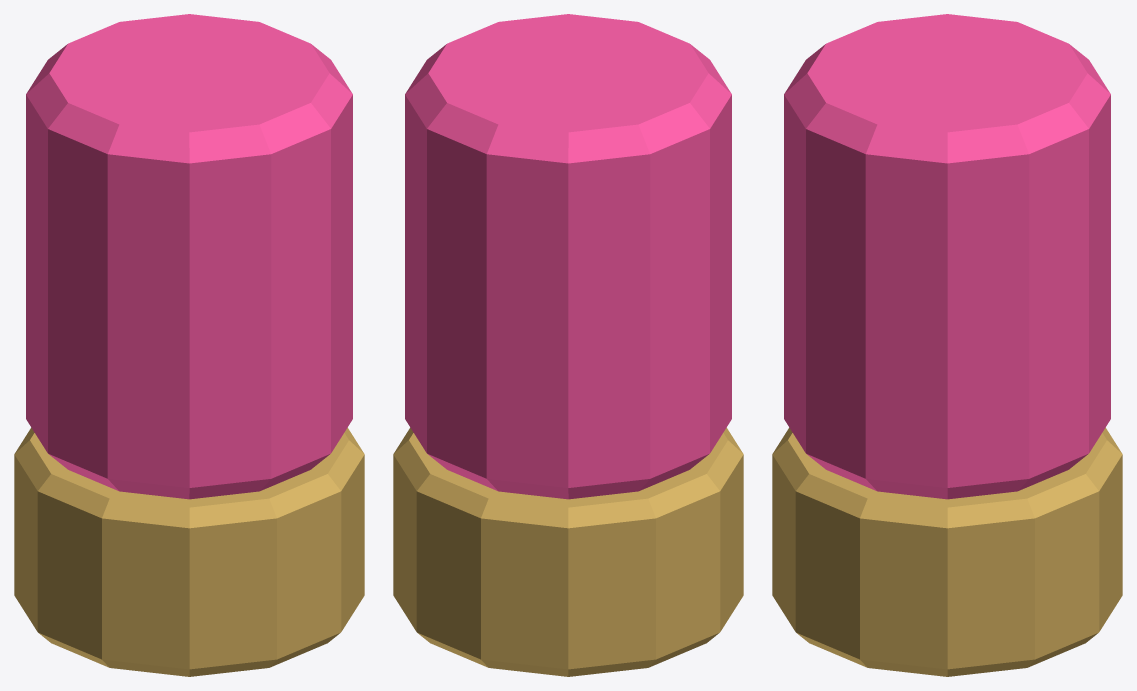
The model's file is shell_shotgun.obj.
3 renders of one model, left to right at view 1: azimuth 30°, elevation 25°; view 2: azimuth 150°, elevation 25°; view 3: azimuth 270°, elevation 25°, orthographic.
Parts seen in each view (by area): view 1: shell_shotgun; view 2: shell_shotgun; view 3: shell_shotgun.
Boxes of the visible parts, bbox=[...] form: shell_shotgun: bbox=[14, 14, 364, 676]; shell_shotgun: bbox=[393, 14, 743, 676]; shell_shotgun: bbox=[772, 14, 1122, 676].
Bounding box in the file's own units: 0.45 × 0.76 × 0.45.
1 material, 1 textured.
